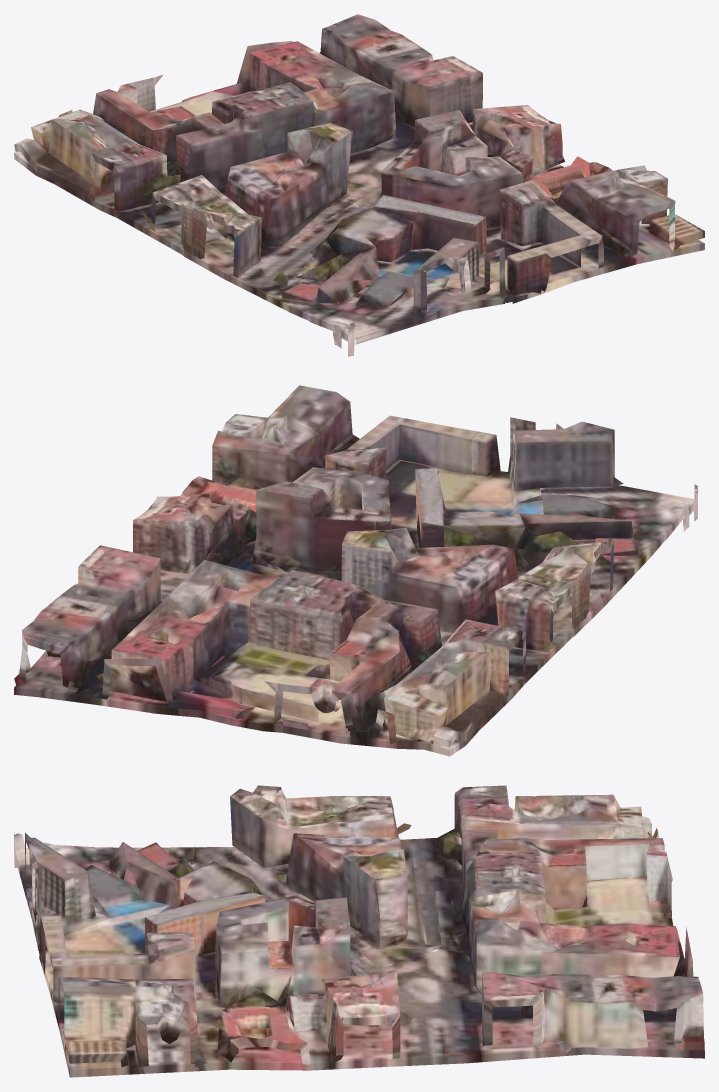
3 views of the same model, one above another, from view 1: azimuth 30°, elevation 25°; view 2: azimuth 150°, elevation 25°; view 3: azimuth 270°, elevation 25° (orthographic). The views are drawn at different scales.
Visible parts, largest first — view 1: Mesh_0; view 2: Mesh_0; view 3: Mesh_0.
Boxes of the visible parts, left/top/right/bottom form: Mesh_0: left=14, top=14, right=704, bottom=356; Mesh_0: left=14, top=385, right=697, bottom=756; Mesh_0: left=14, top=785, right=704, bottom=1077.
Size of the model in its own units: 266 by 53.2 by 330.
Materials: 2 (2 with a texture image).
